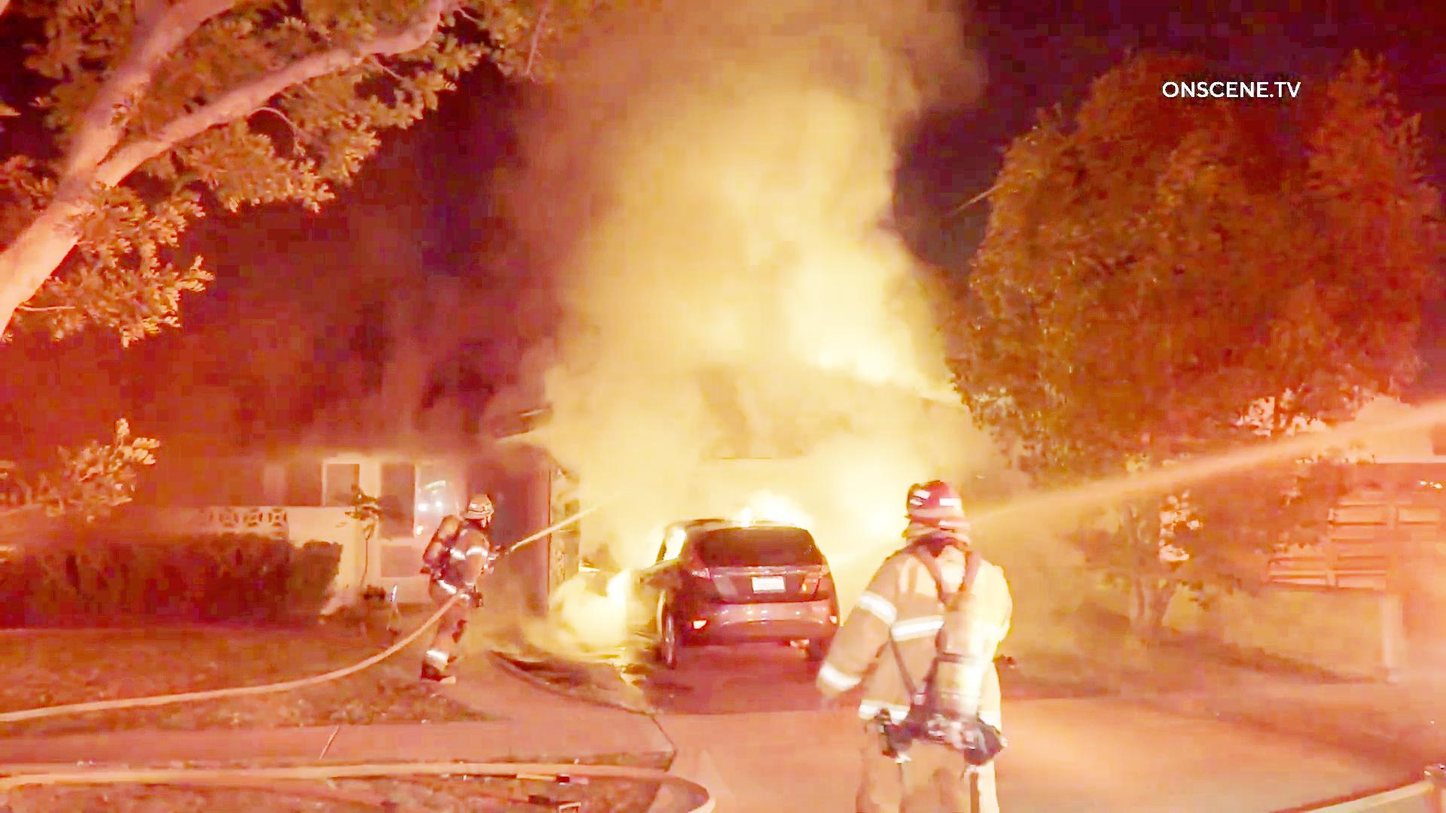fire: (701, 475, 838, 539), (584, 567, 624, 619)
smoke: (418, 140, 956, 446), (599, 8, 959, 150), (214, 307, 382, 408)
